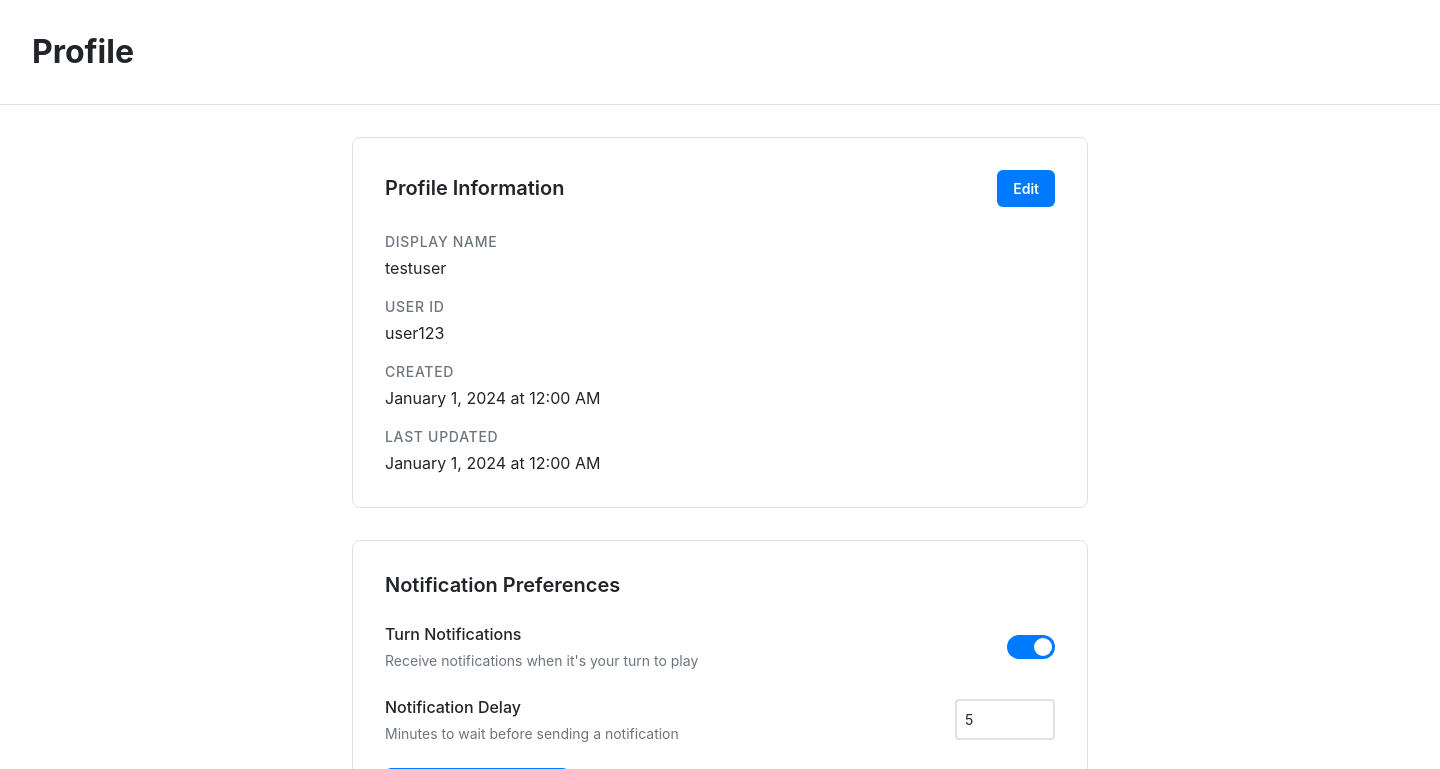
Test: ProfileView › Profile Update Flow › should exit edit mode after successful update
# Enter edit mode
Click the button "Edit" at (1026, 188), box [997,170,1055,207]
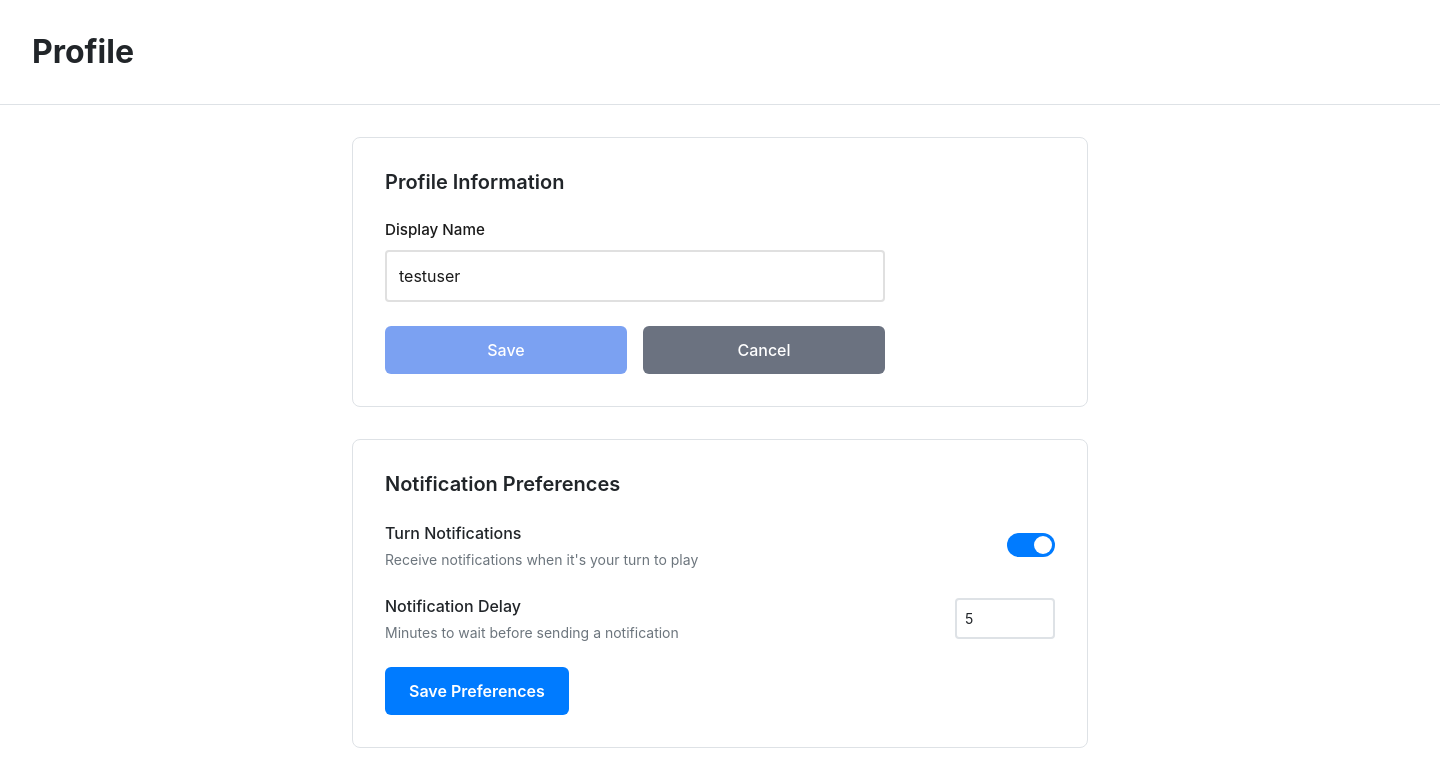
# Submit form
Replace the text in the field labelled "Display Name" with "newname123" at (635, 276), box [385,250,885,302]
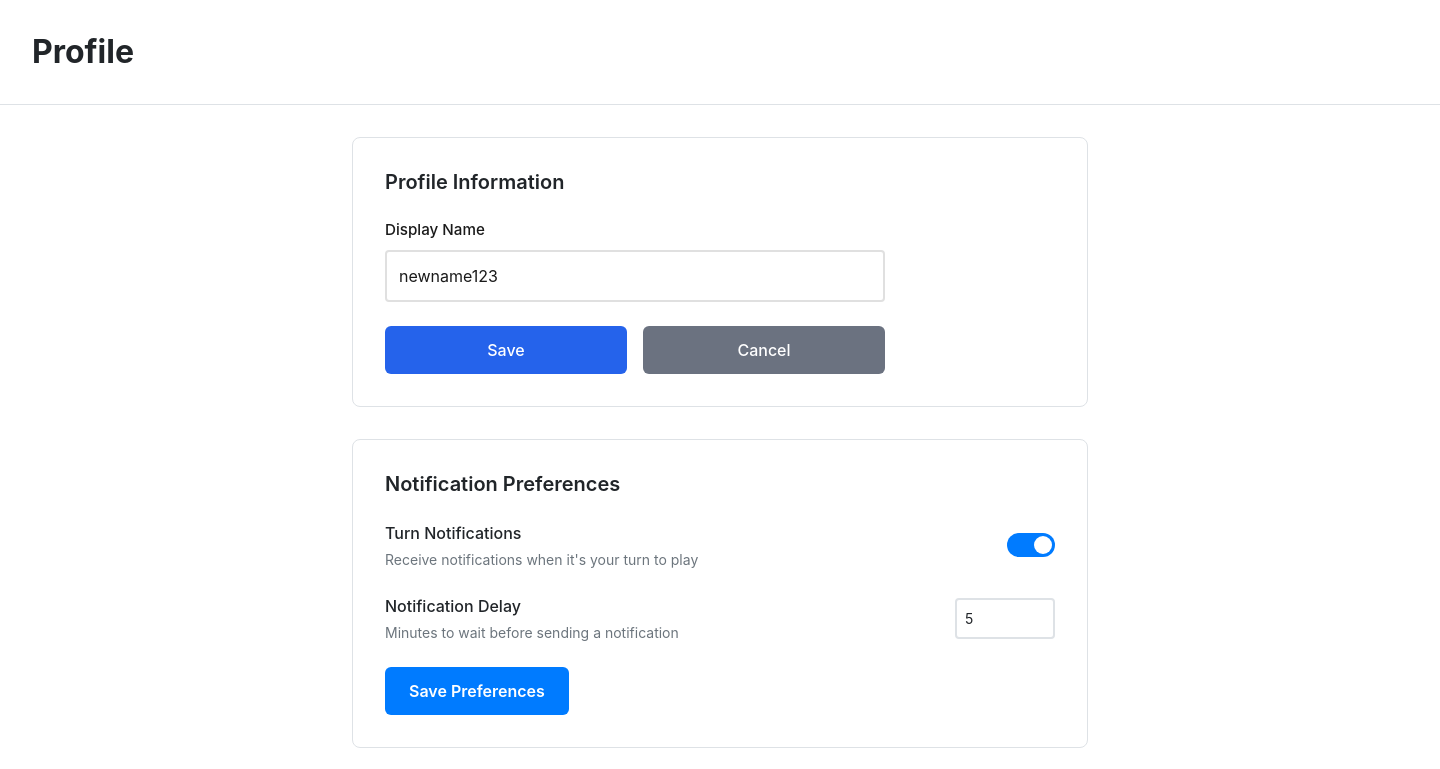
Click the button "Save" at (506, 350), box [385,326,627,374]
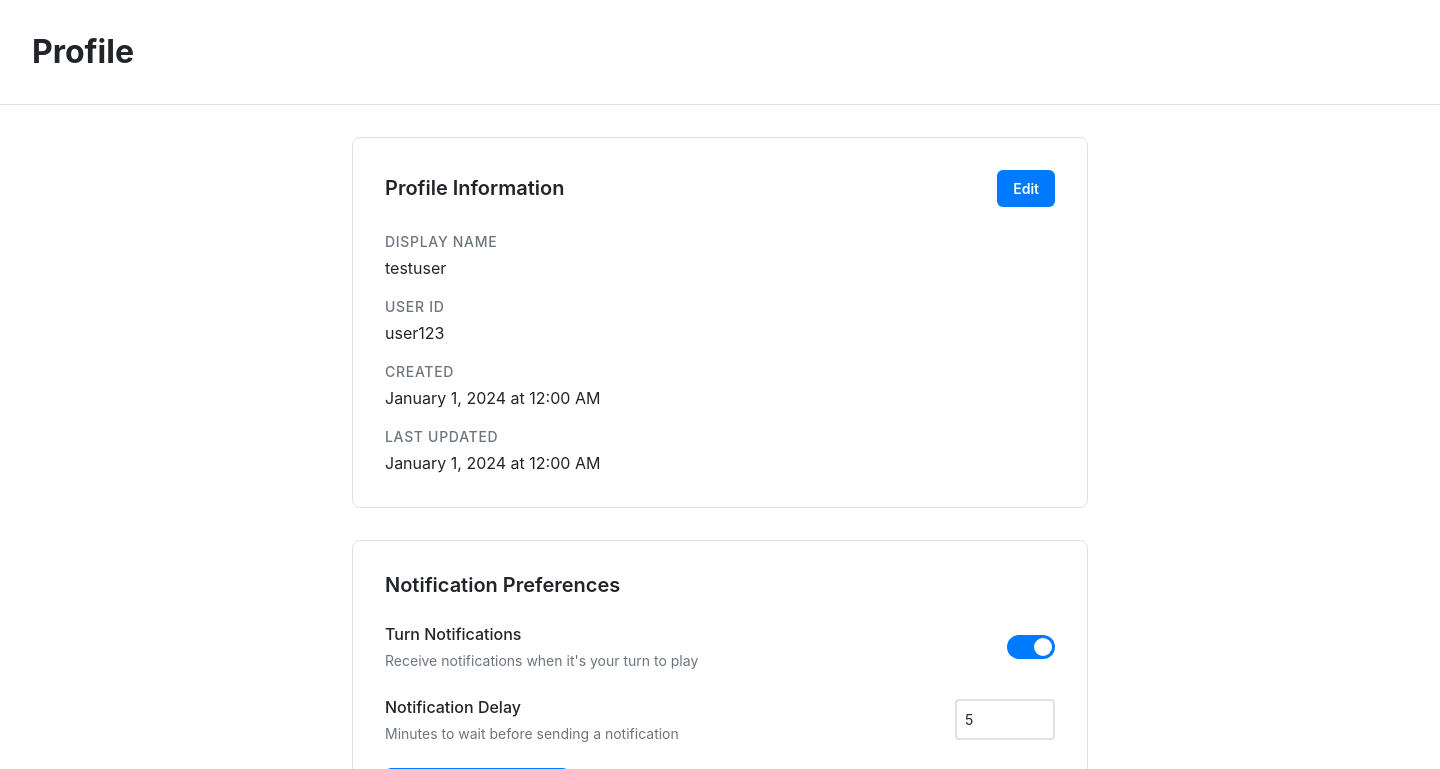
Now the button "Edit" is shown, box [997,170,1055,207]
